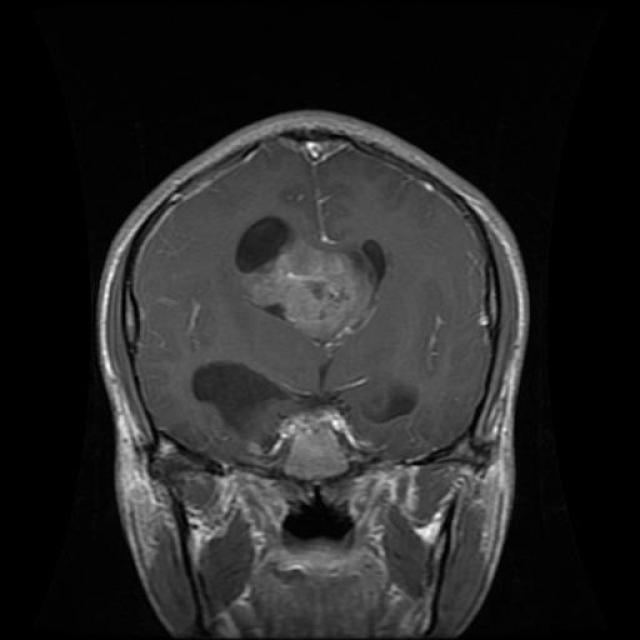glioma: (232, 211, 396, 349)
